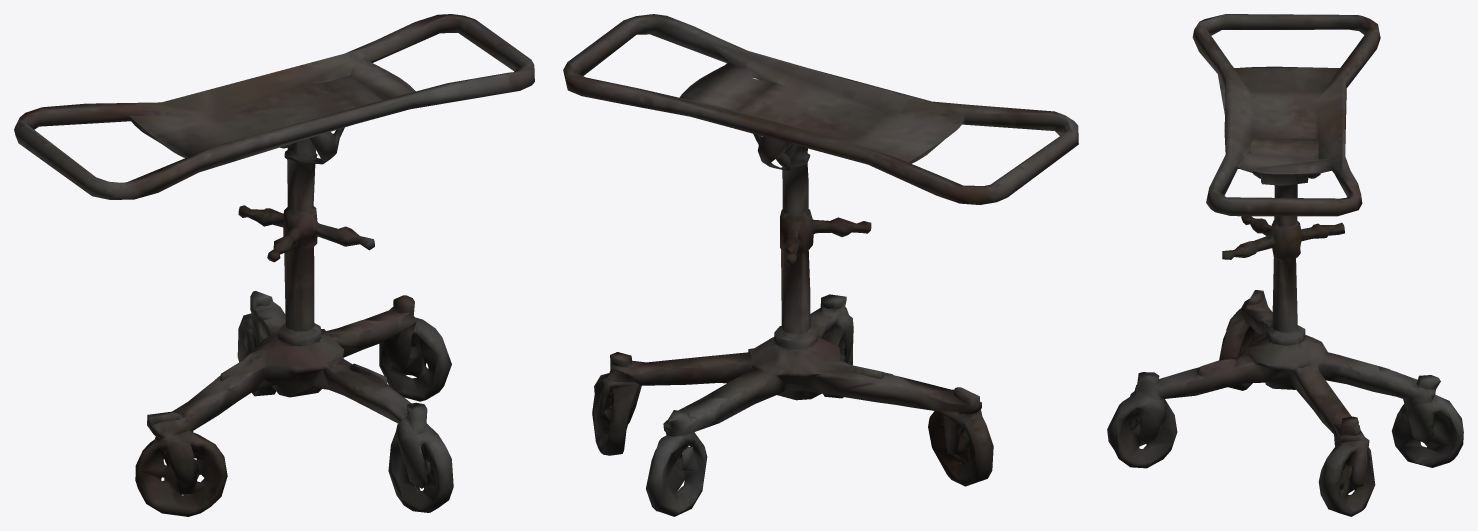
The model's file is worn-iron-gurney-v001.glb.
The picture shows the model from 3 angles, left to right: view 1: azimuth 30°, elevation 25°; view 2: azimuth 150°, elevation 25°; view 3: azimuth 270°, elevation 25°; orthographic projection. The views are drawn at different scales.
Parts seen in each view (by area): view 1: worn-iron-gurney; view 2: worn-iron-gurney; view 3: worn-iron-gurney.
Boxes of the visible parts, <box> form: worn-iron-gurney: <box>14,14,534,516</box>; worn-iron-gurney: <box>563,14,1078,516</box>; worn-iron-gurney: <box>1107,14,1463,516</box>.
Bounding box in the file's own units: 1.2 × 0.9538 × 0.9161.
Materials: 1 (1 with a texture image).
